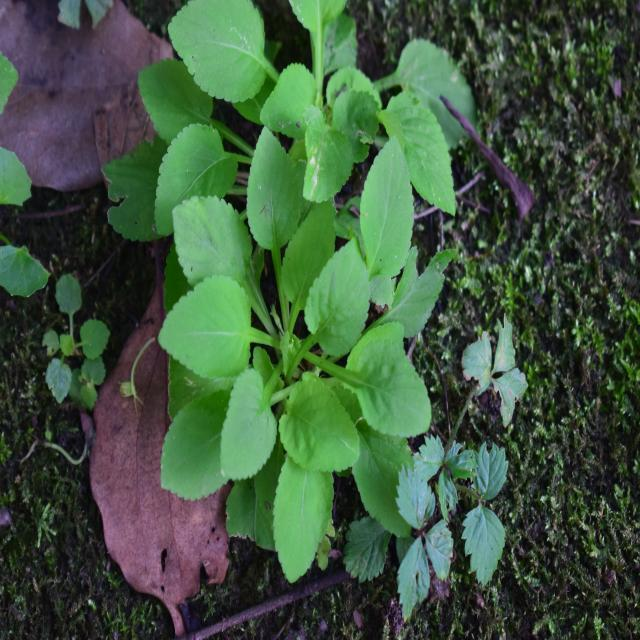Viola: (164, 181, 406, 504)
